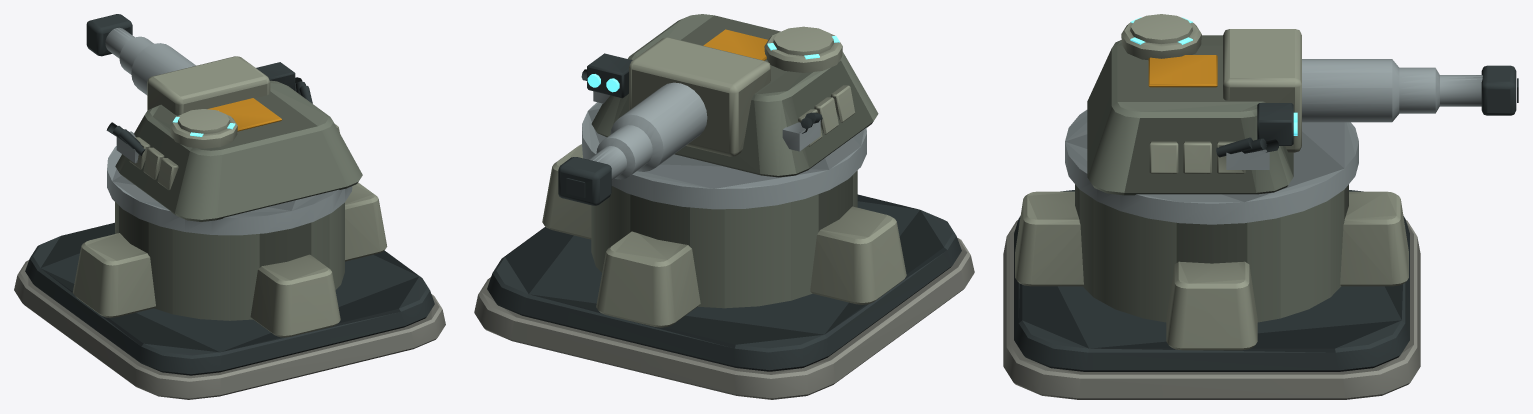
File: AntiGroundTurret.glb
3 renders of one model, left to right at view 1: azimuth 30°, elevation 25°; view 2: azimuth 150°, elevation 25°; view 3: azimuth 270°, elevation 25°, orthographic. The views are drawn at different scales.
Visible parts, largest first — view 1: export_AntiGroundTurret_Footing, export_AntiGroundTurret_TurretShell, export_AntiGroundTurret_Mantlet; view 2: export_AntiGroundTurret_Footing, export_AntiGroundTurret_TurretShell, export_AntiGroundTurret_Mantlet; view 3: export_AntiGroundTurret_Footing, export_AntiGroundTurret_TurretShell, export_AntiGroundTurret_Mantlet.
Boxes of the visible parts, x1,y1,x2,y2 form: export_AntiGroundTurret_Footing: (14, 146, 445, 399); export_AntiGroundTurret_TurretShell: (106, 62, 362, 221); export_AntiGroundTurret_Mantlet: (86, 14, 270, 115); export_AntiGroundTurret_Footing: (474, 102, 974, 399); export_AntiGroundTurret_TurretShell: (581, 14, 878, 177); export_AntiGroundTurret_Mantlet: (558, 37, 770, 205); export_AntiGroundTurret_Footing: (1003, 110, 1420, 399); export_AntiGroundTurret_TurretShell: (1087, 14, 1297, 195); export_AntiGroundTurret_Mantlet: (1223, 29, 1518, 152).
Bounding box in the file's own units: 2.89 × 1.99 × 3.57.
